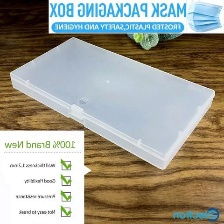plastic_box: (6, 33, 221, 174)
